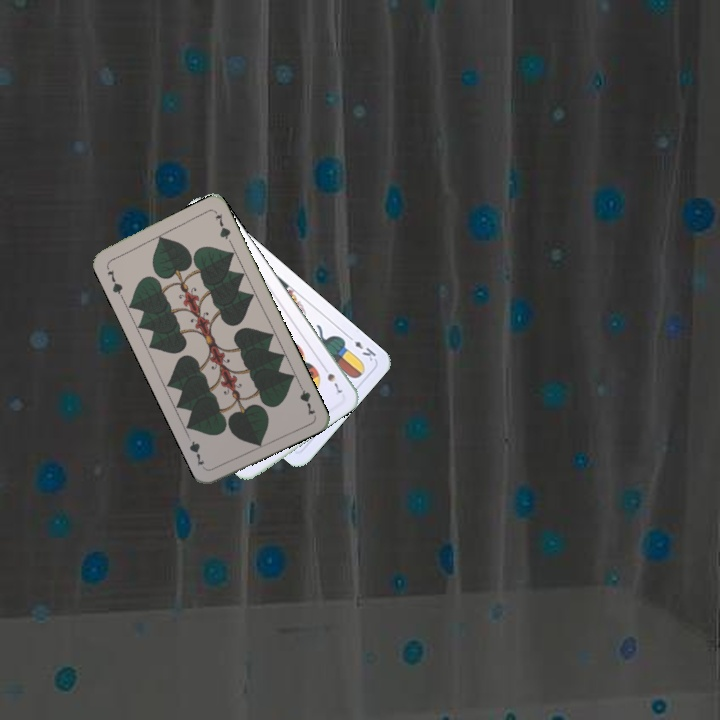EK: (343, 331, 379, 364)
G7: (294, 379, 318, 418), (102, 262, 126, 300)
S7: (318, 361, 345, 396)
